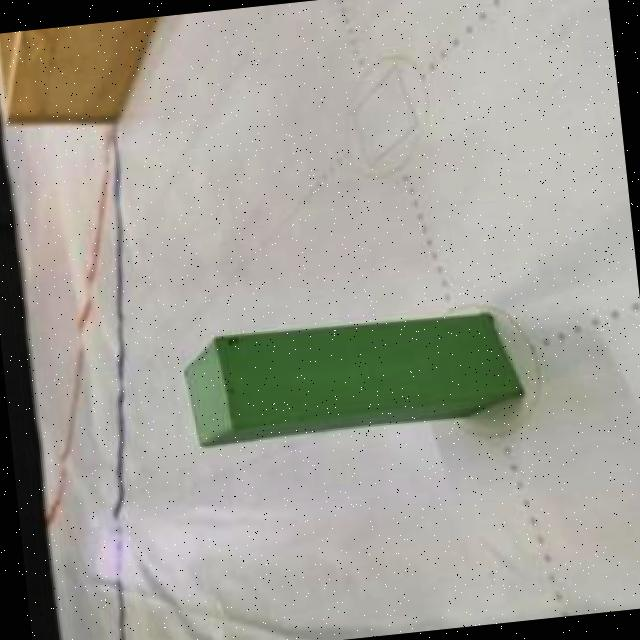greenbox: (178, 300, 526, 455)
